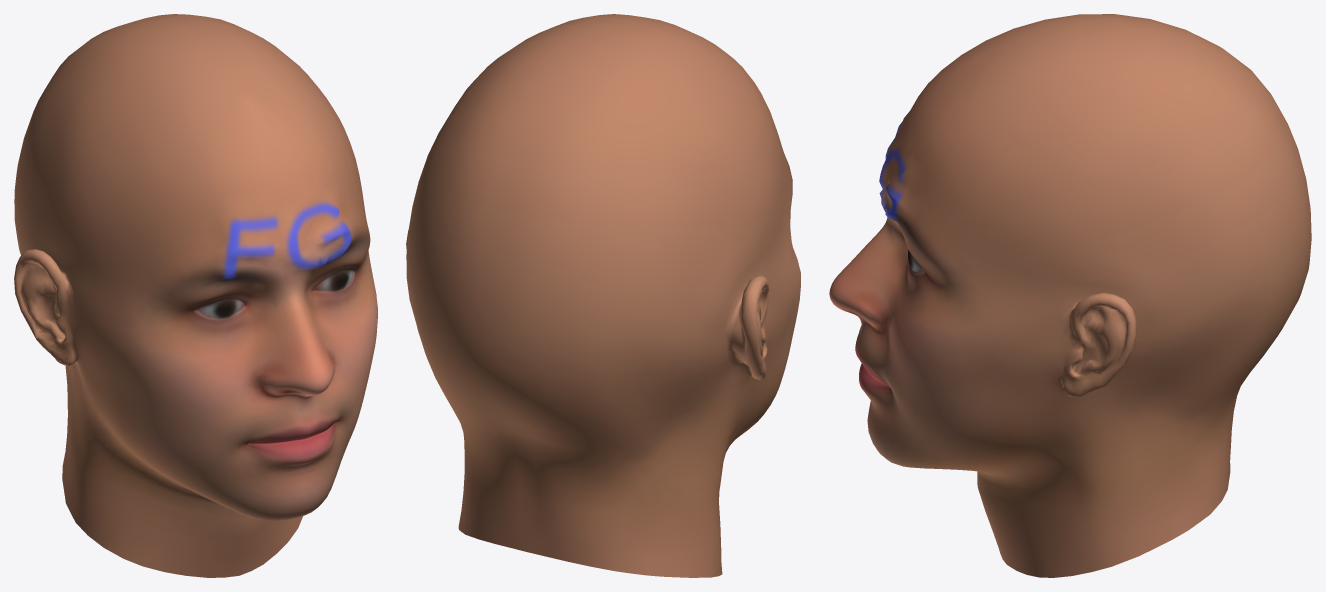
File: avg_anyrace_anysex.obj
3 renders of one model, left to right at view 1: azimuth 30°, elevation 25°; view 2: azimuth 150°, elevation 25°; view 3: azimuth 270°, elevation 25°, orthographic. The views are drawn at different scales.
Visible parts, largest first — view 1: HeadHires; view 2: HeadHires; view 3: HeadHires.
Boxes of the visible parts, x1,y1,x2,y2 form: HeadHires: (14, 14, 377, 577); HeadHires: (406, 14, 800, 577); HeadHires: (829, 14, 1311, 577).
Bounding box in the file's own units: 189 × 283 × 236.
3 materials, 3 textured.
